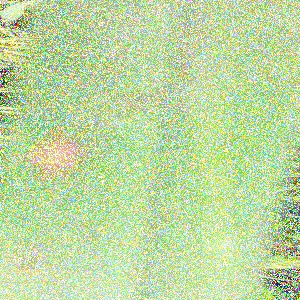Brown_Spot: (20, 120, 96, 205)
